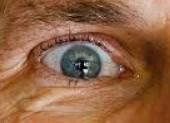eye: (60, 45, 102, 79)
